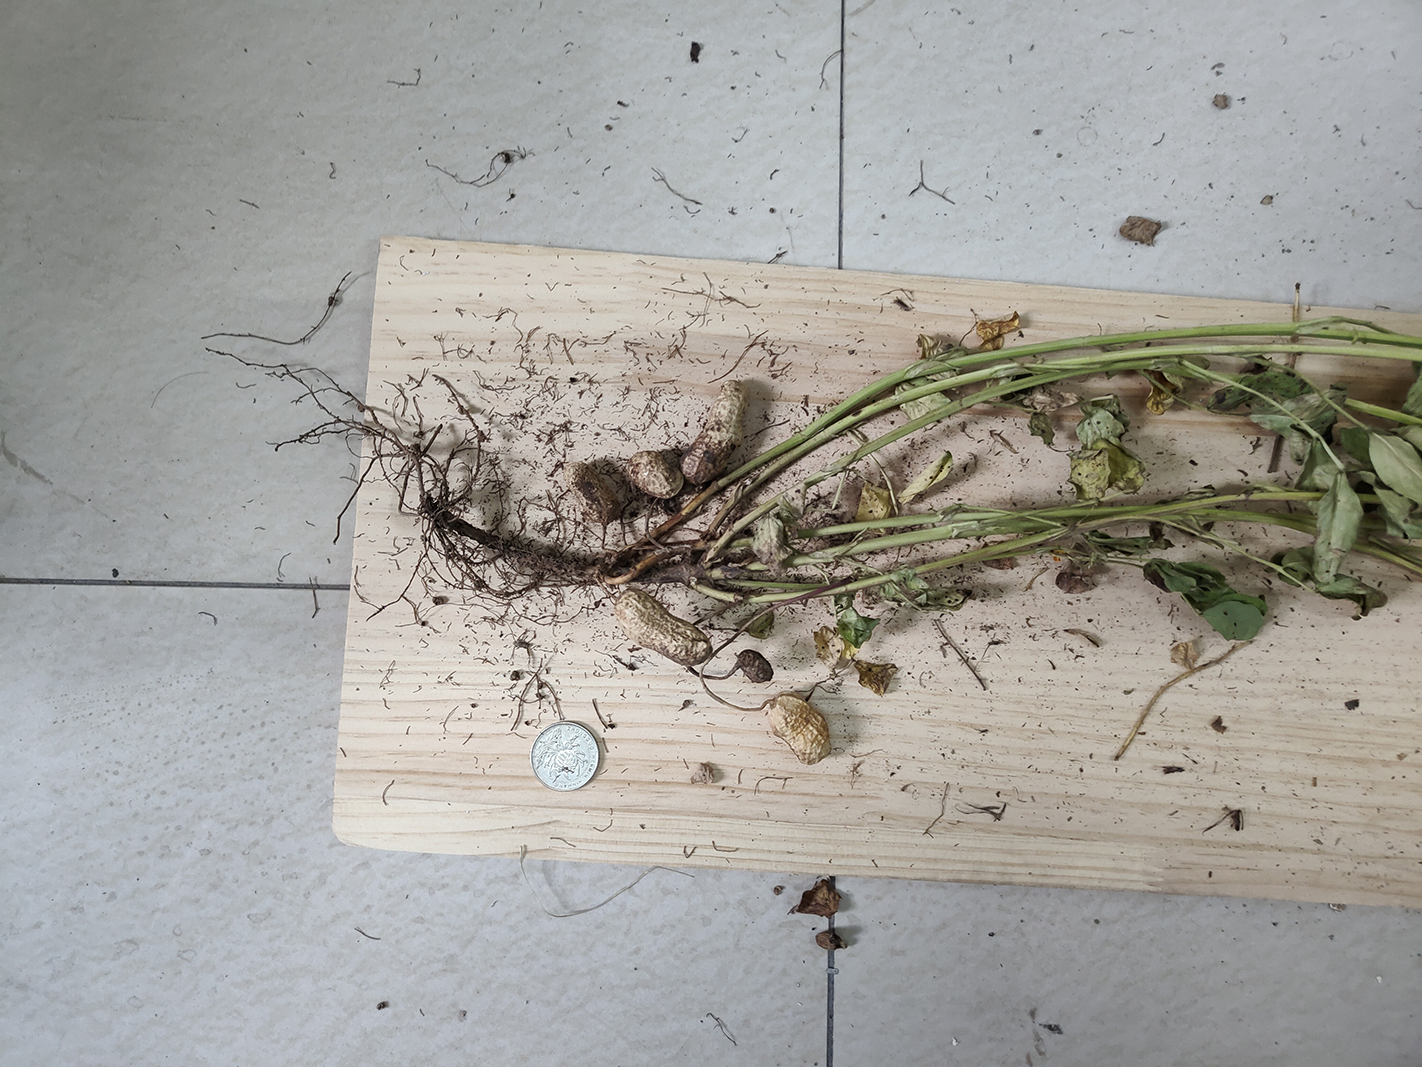h: (614, 590, 712, 665), (681, 380, 747, 488), (766, 695, 831, 766), (625, 452, 682, 497)
l: (566, 463, 616, 523), (738, 650, 773, 684)
